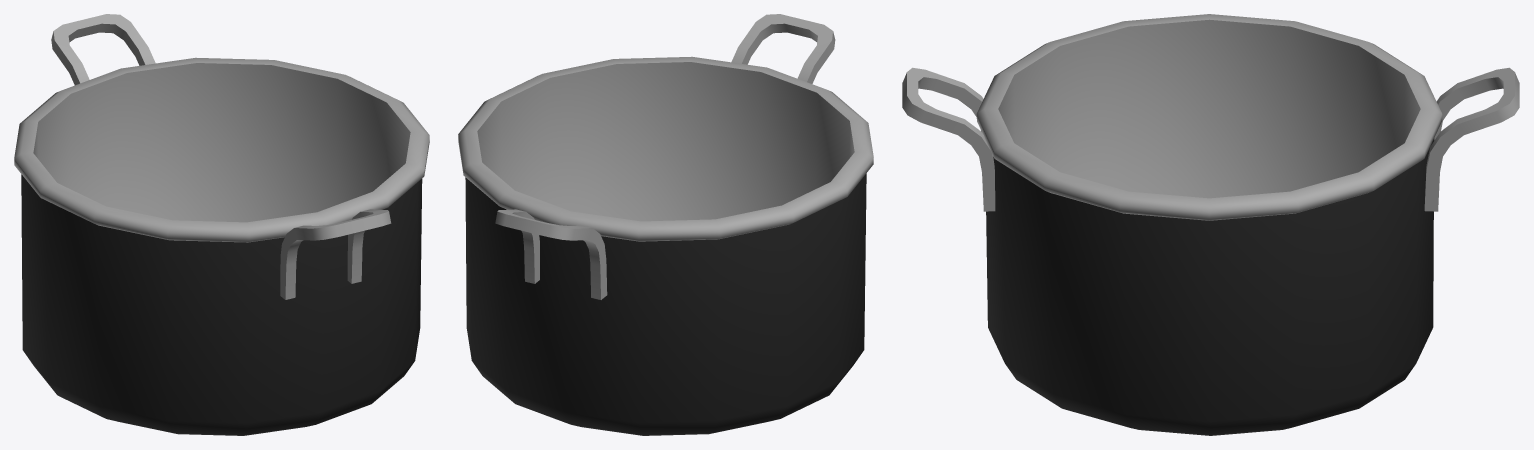
File: Pot.fbx
3 views of the same model, side by side, from view 1: azimuth 30°, elevation 25°; view 2: azimuth 150°, elevation 25°; view 3: azimuth 270°, elevation 25° (orthographic). The views are drawn at different scales.
Visible parts, largest first — view 1: SoupPot_01; view 2: SoupPot_01; view 3: SoupPot_01.
Part boxes in pixels (<box>): SoupPot_01: <box>14,14,429,435</box>; SoupPot_01: <box>458,14,873,435</box>; SoupPot_01: <box>902,14,1519,435</box>.
Bounding box in the file's own units: 32.22 × 20.83 × 42.75.
